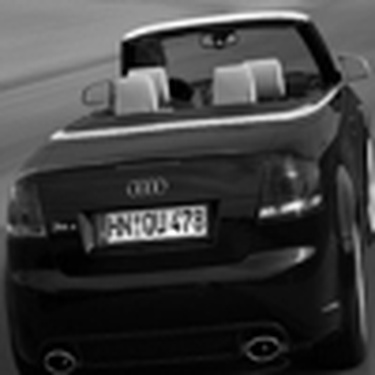car: (6, 5, 368, 357)
